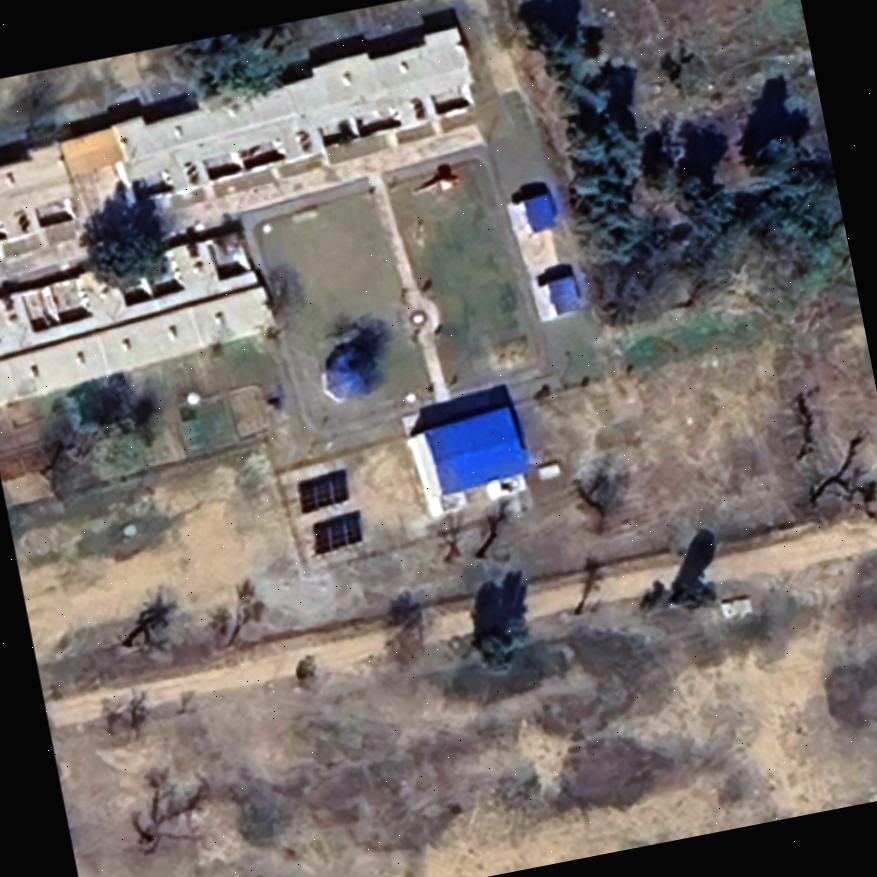Solarpanel: (296, 463, 349, 512), (314, 509, 363, 551)
